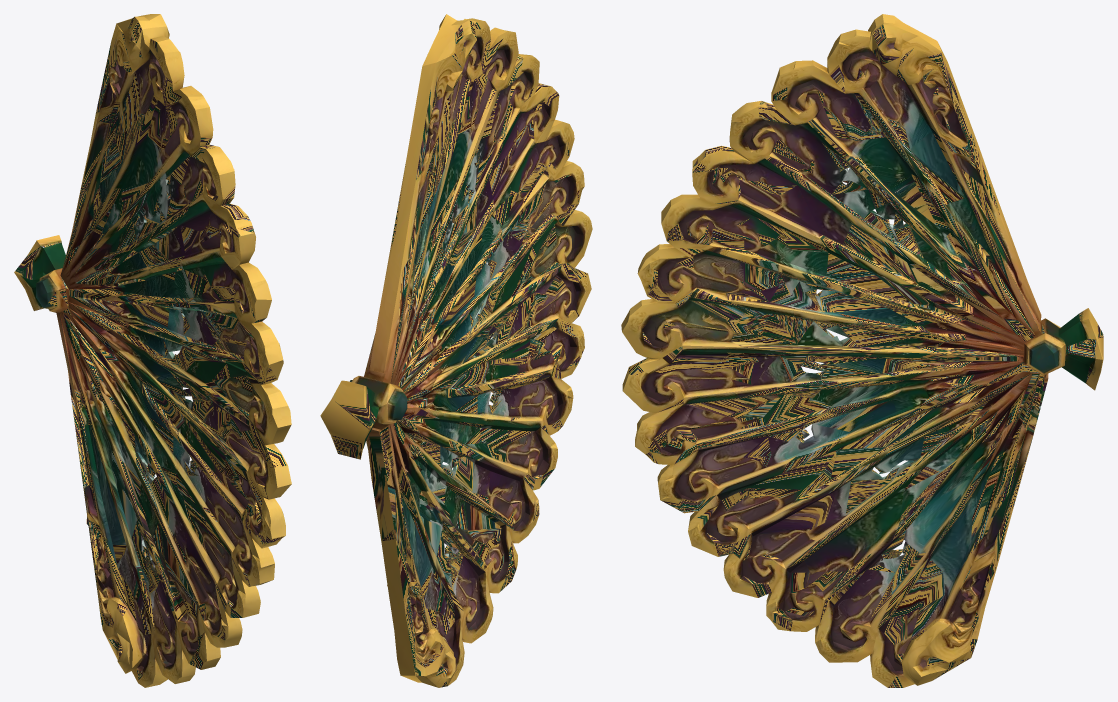
The model's file is shaman_fan_t0.f97989dd.glb.
3 renders of one model, left to right at view 1: azimuth 30°, elevation 25°; view 2: azimuth 150°, elevation 25°; view 3: azimuth 270°, elevation 25°, orthographic.
Parts seen in each view (by area): view 1: tripo_node_61878b35-424d-4394-b232-6a31a0f65f71; view 2: tripo_node_61878b35-424d-4394-b232-6a31a0f65f71; view 3: tripo_node_61878b35-424d-4394-b232-6a31a0f65f71.
Boxes of the visible parts, left/top/right/bottom form: tripo_node_61878b35-424d-4394-b232-6a31a0f65f71: left=14, top=14, right=291, bottom=687; tripo_node_61878b35-424d-4394-b232-6a31a0f65f71: left=320, top=14, right=592, bottom=687; tripo_node_61878b35-424d-4394-b232-6a31a0f65f71: left=621, top=14, right=1103, bottom=687.
Bounding box in the file's own units: 0.0643 × 0.6923 × 0.4558.
1 material, 1 textured.
